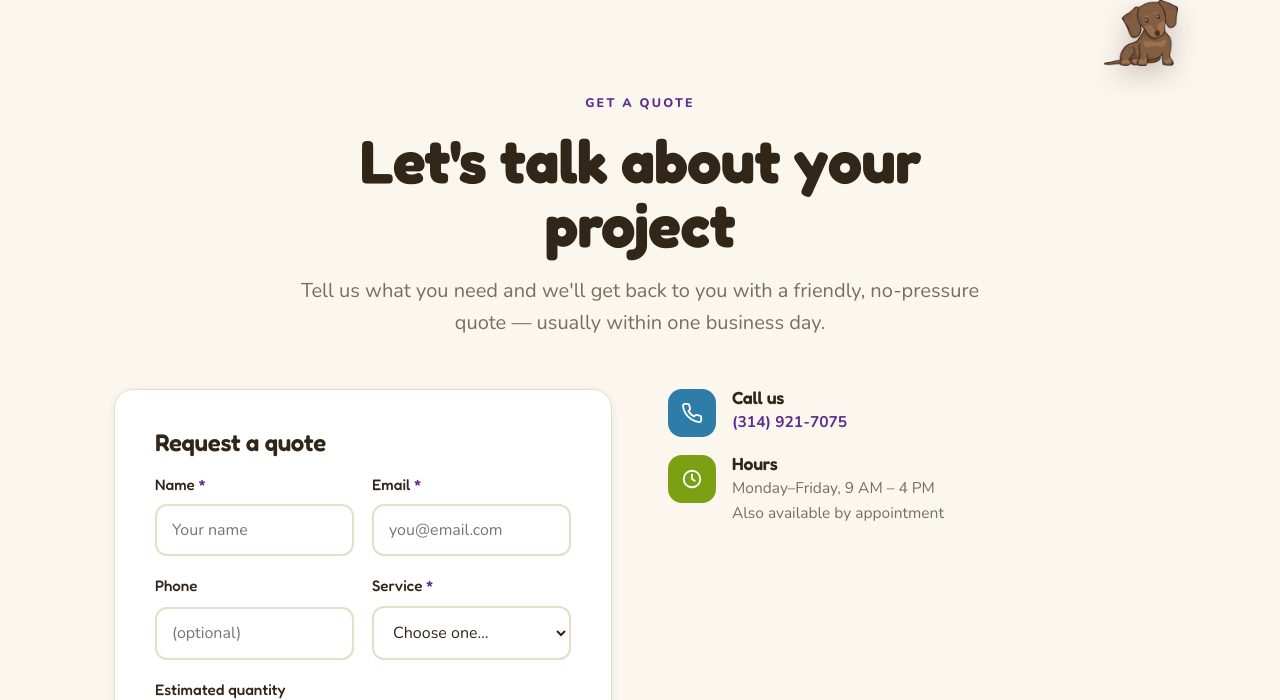
without a Turnstile site key (local dev) › renders no widget and still submits
Type "Jeff Grenard" into the field labelled "Name *" at (254, 530), box [155,504,354,556]
Type "jeff@customer.test" into the field labelled "Email *" at (472, 530), box [372,504,571,556]
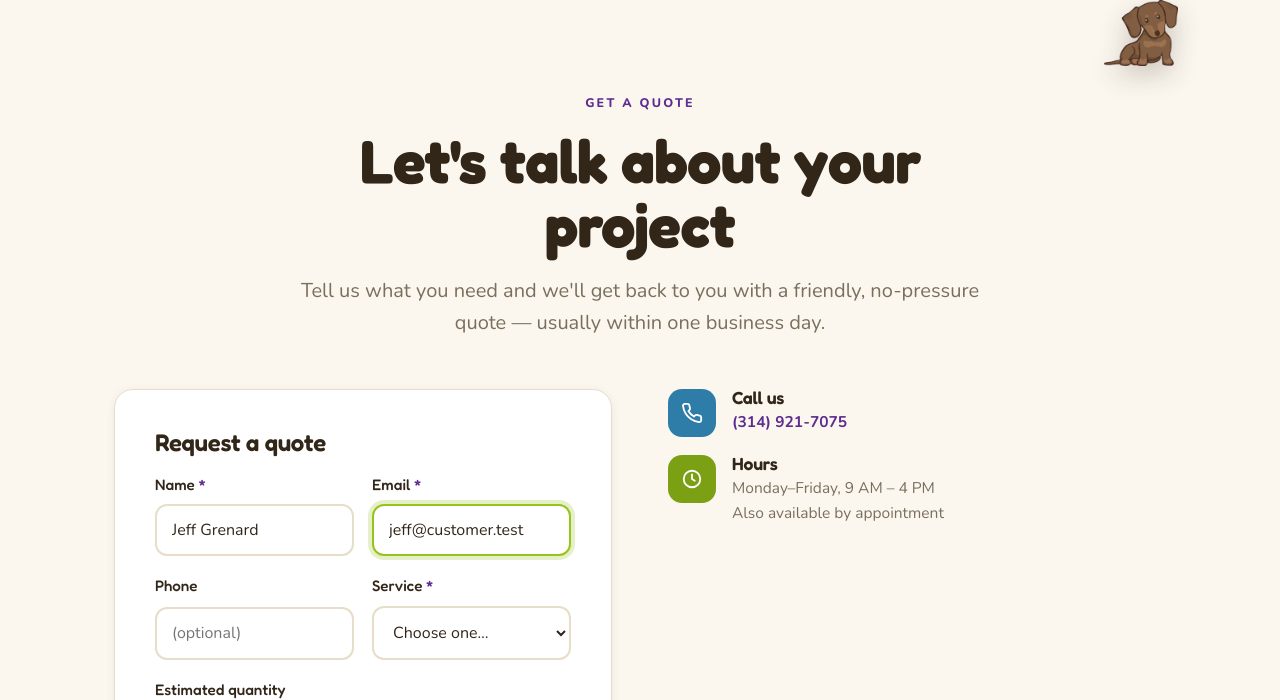
Type "314-555-0100" into the field labelled "Phone" at (254, 633), box [155,607,354,660]
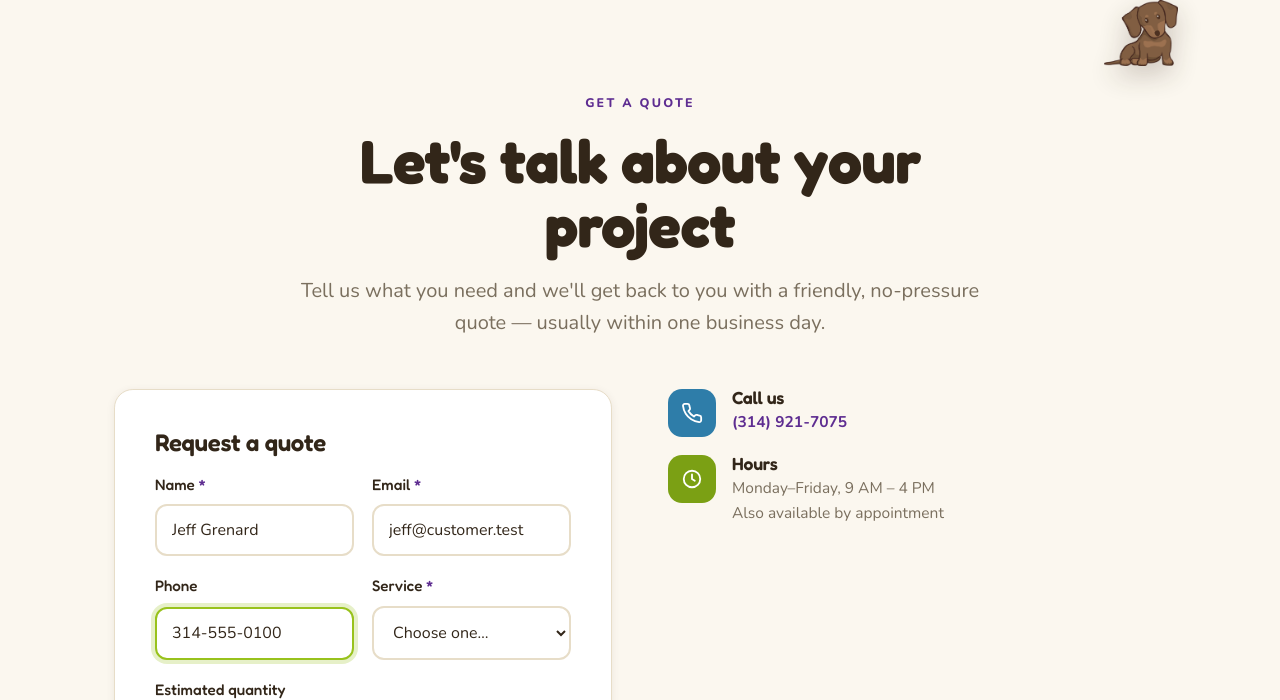
Select "Screen Printing" in the dropdown labelled "Service *" at (472, 633), box [372,606,571,660]
(page scrolled)
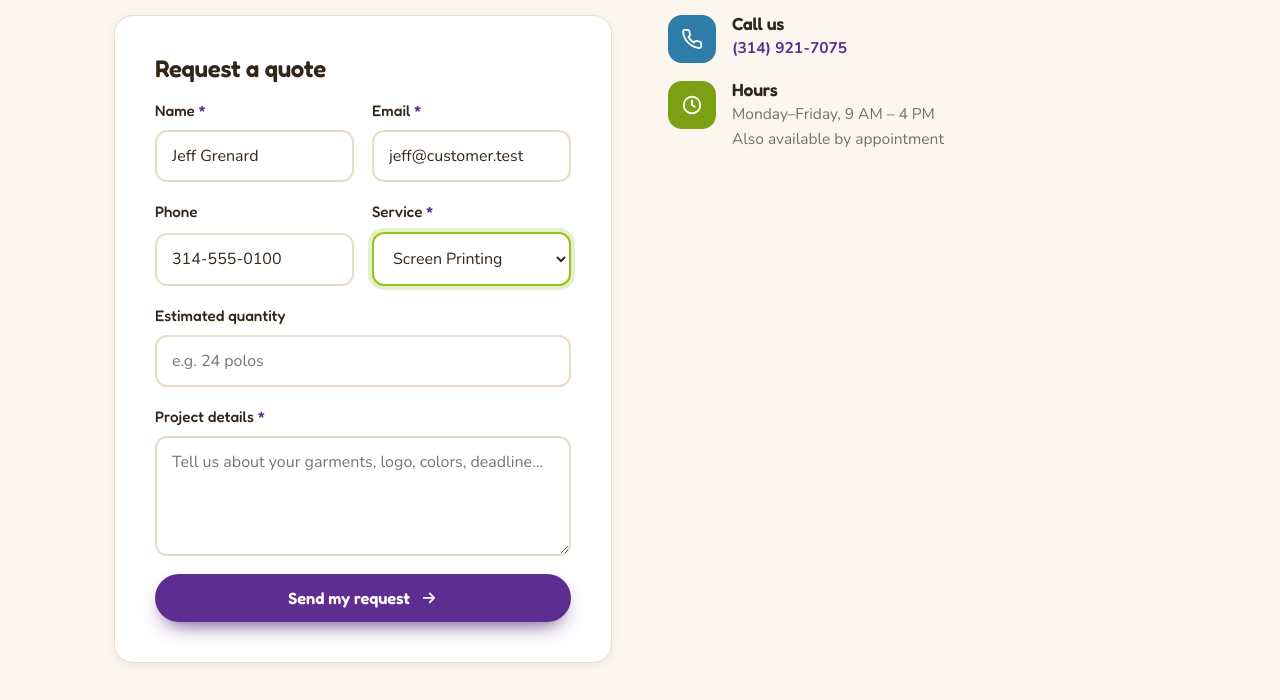
Type "24 hoodies" into the field labelled "Estimated quantity" at (363, 361), box [155,335,571,387]
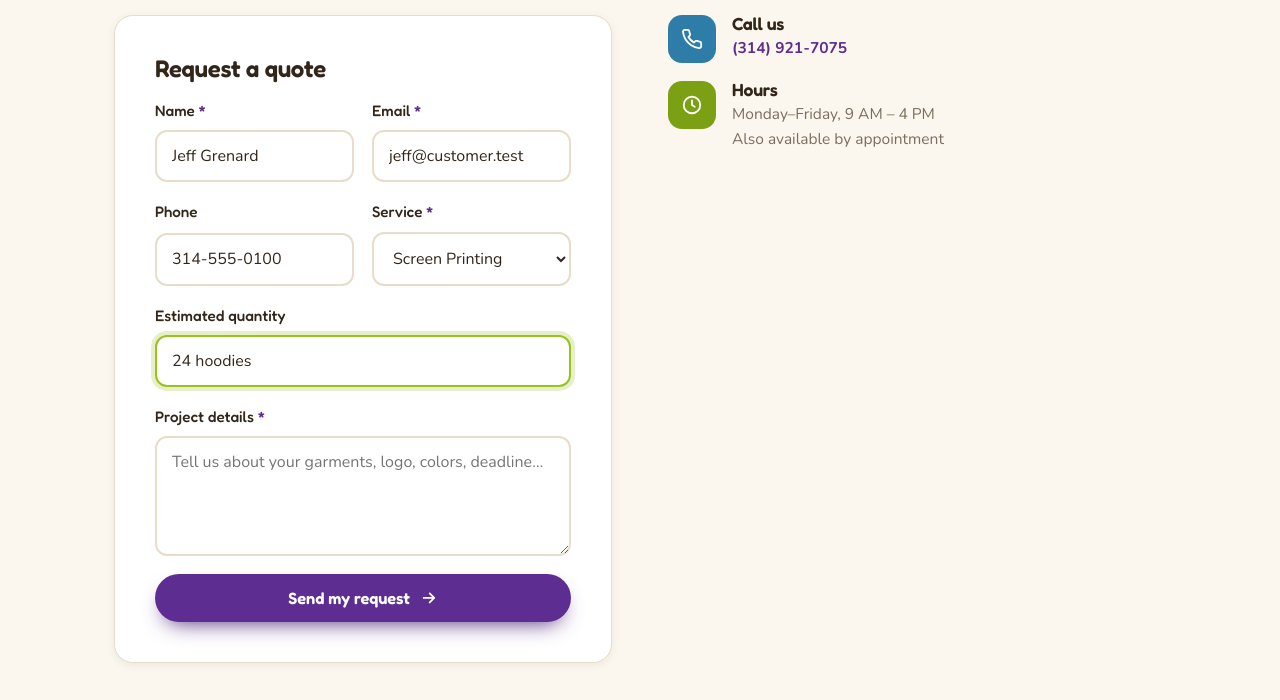
Type "Spring league hoodies" into the text box labelled "Project details *" at (363, 496), box [155,436,571,556]
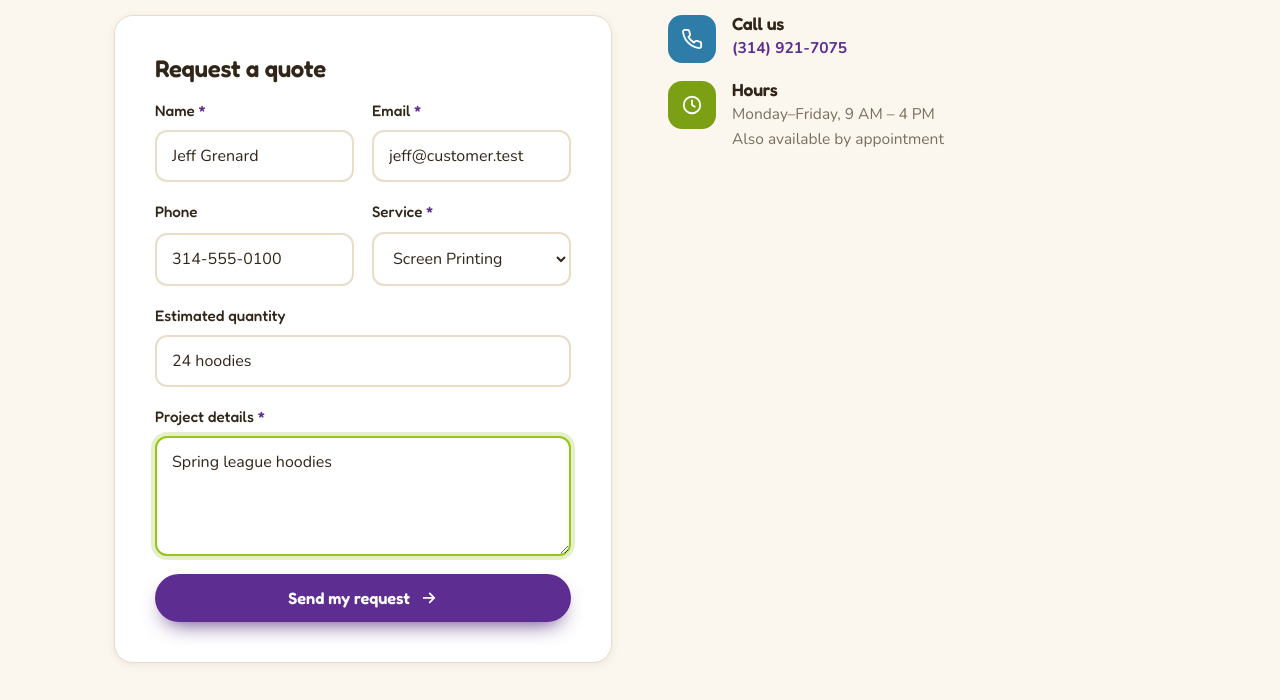
Click the button "Send my request" at (363, 598), box [155,574,571,622]
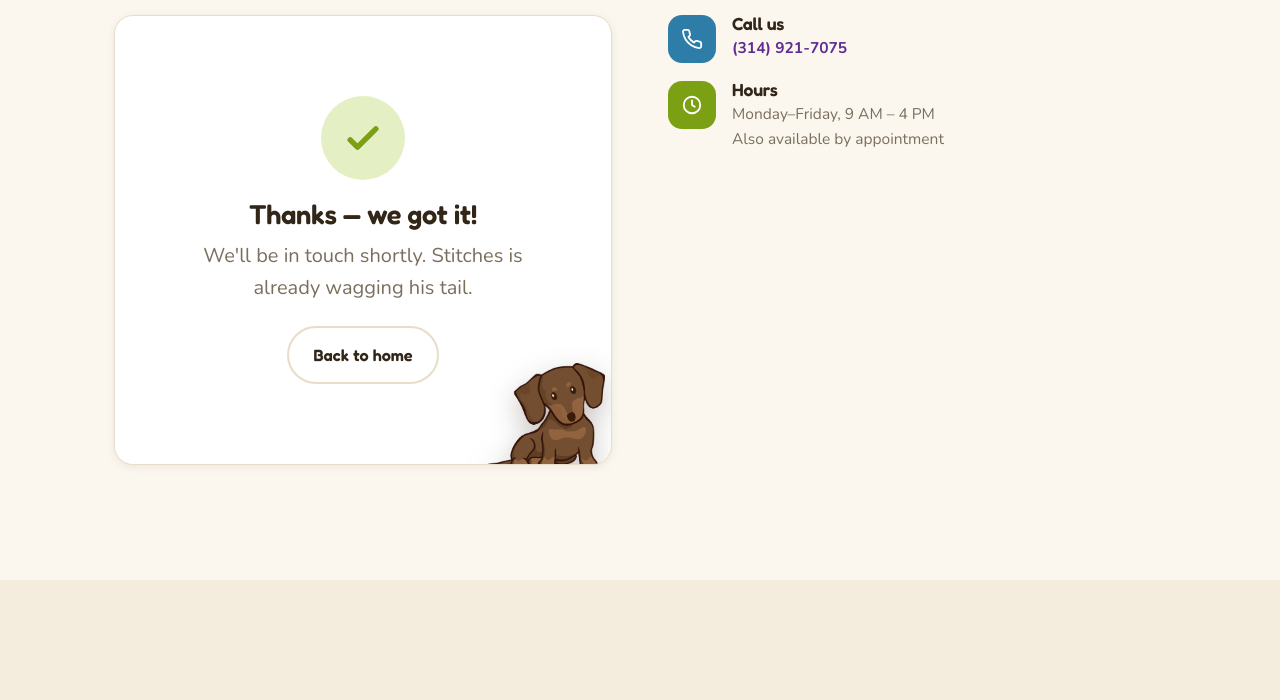
Check: the heading "Thanks — we got it!" is shown, box [249,198,477,230]
